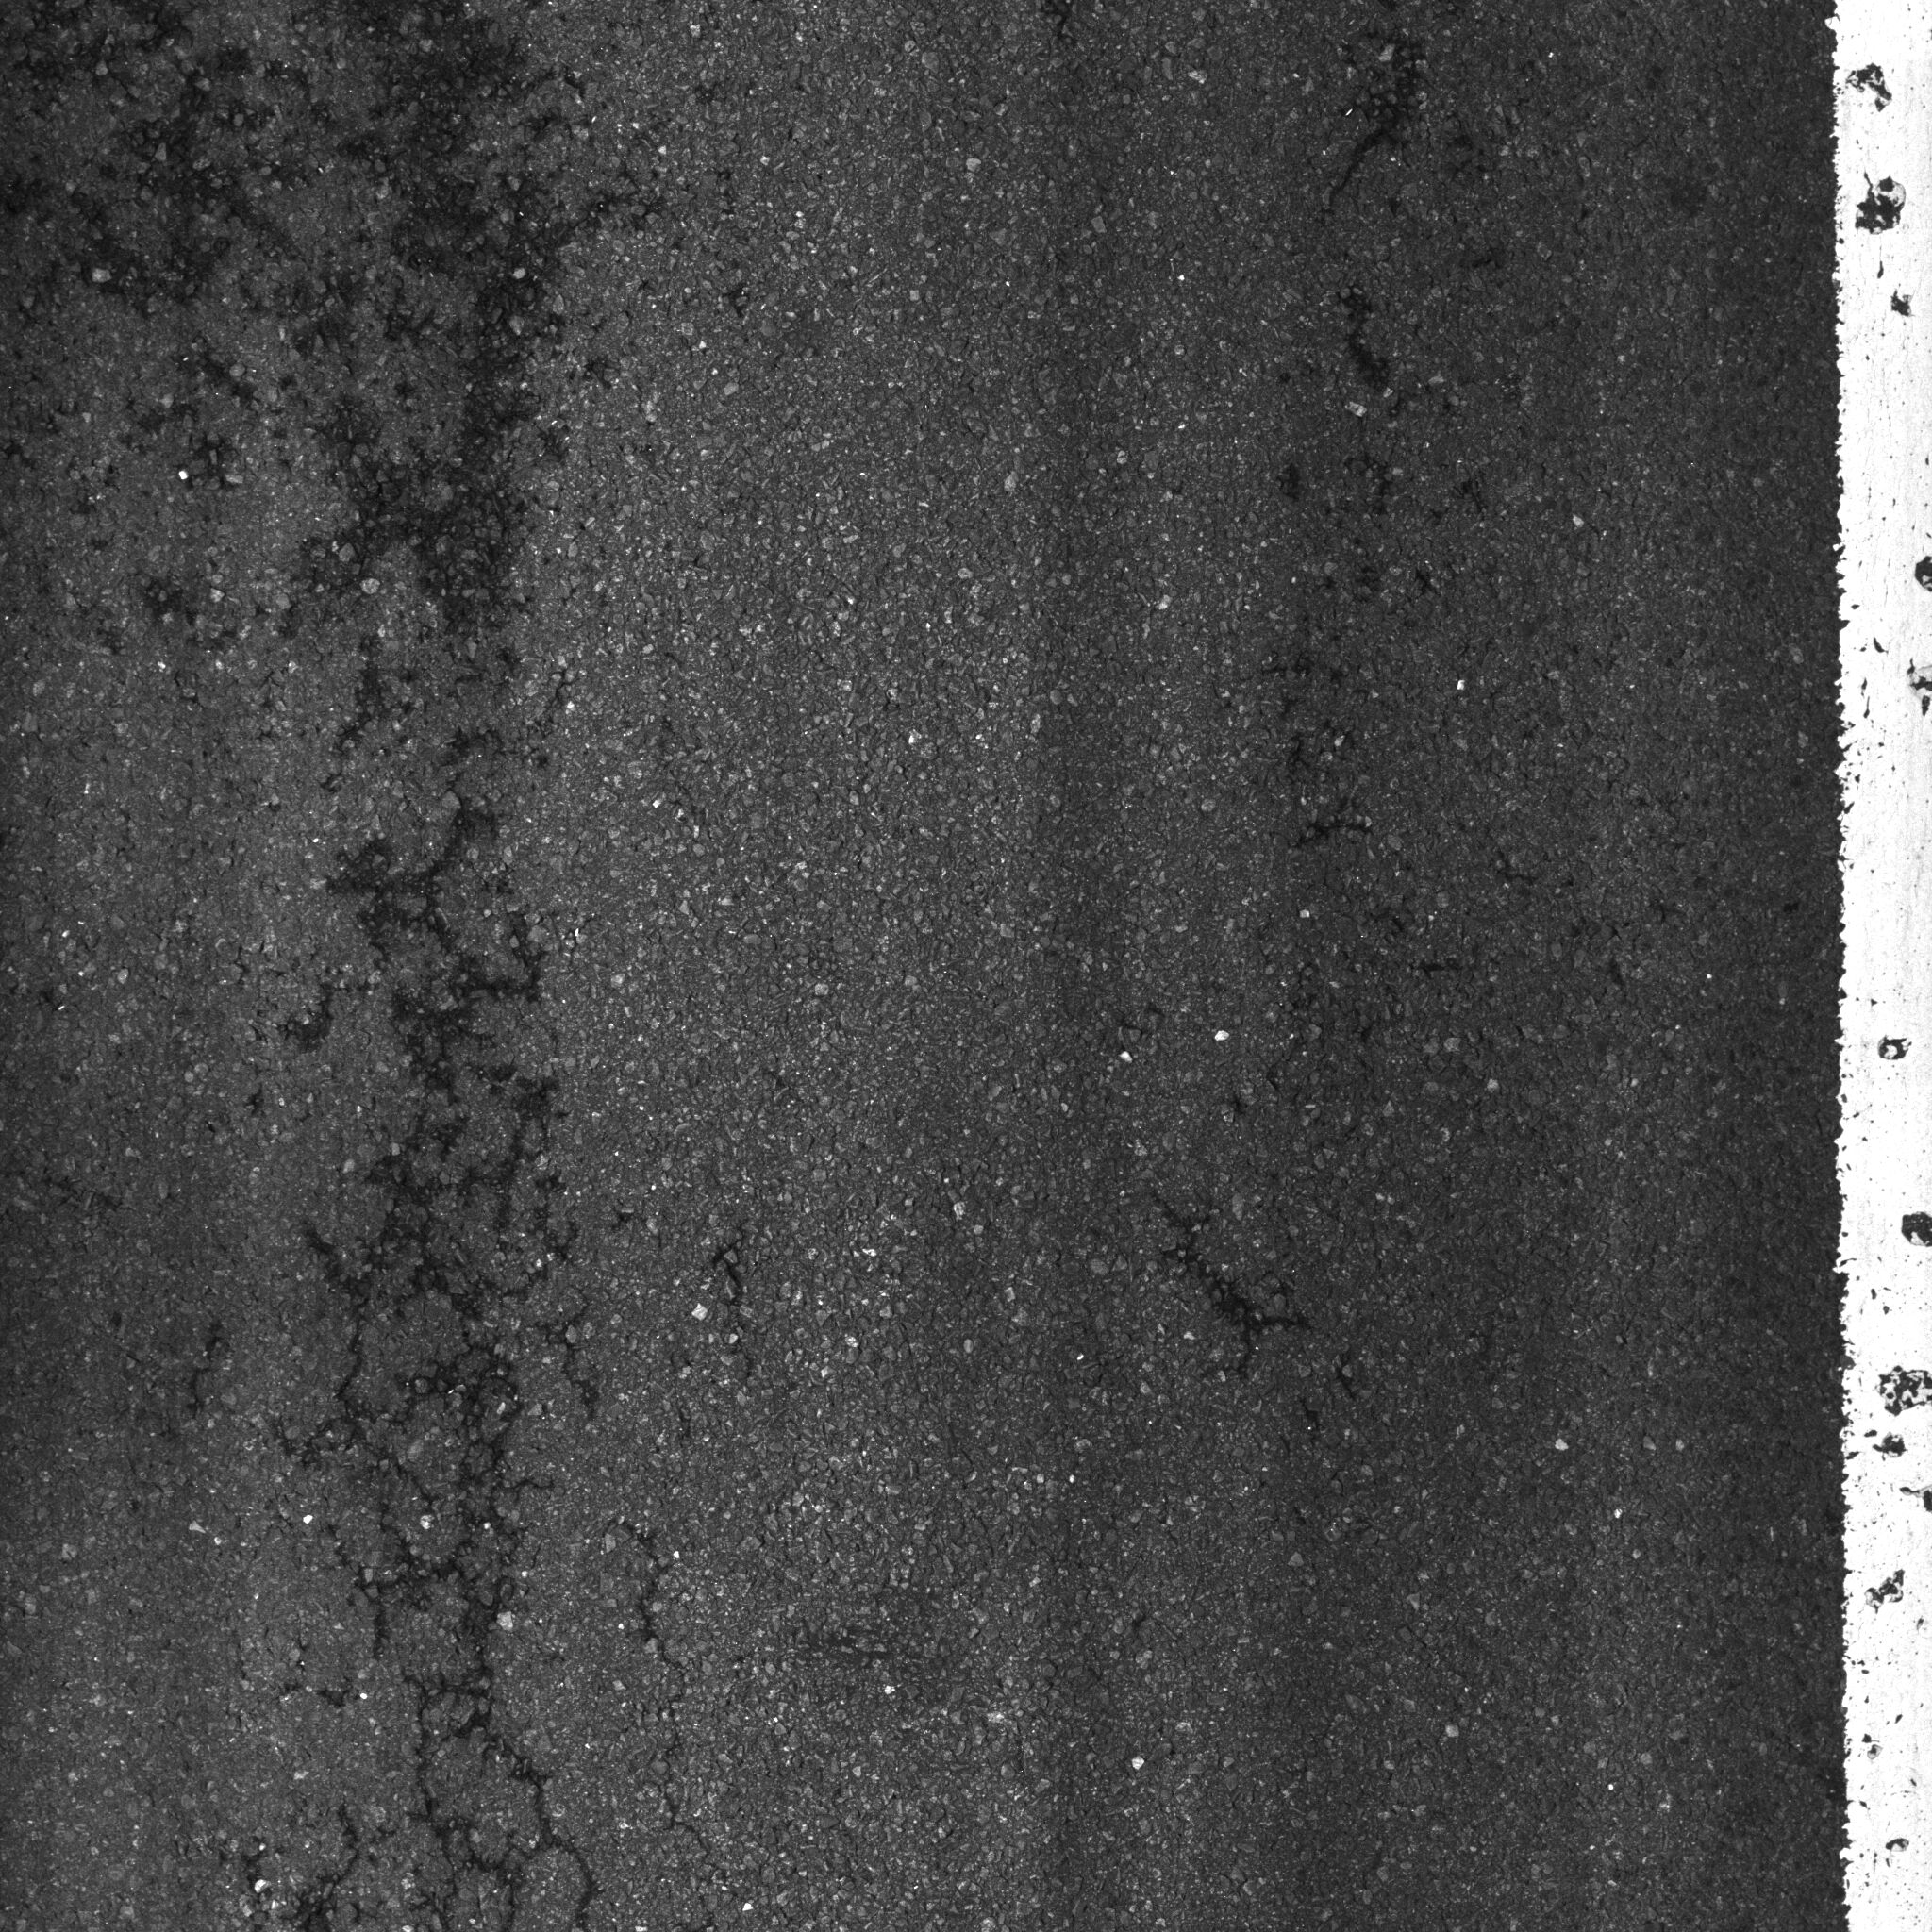alligator: (12, 5, 775, 1914)
